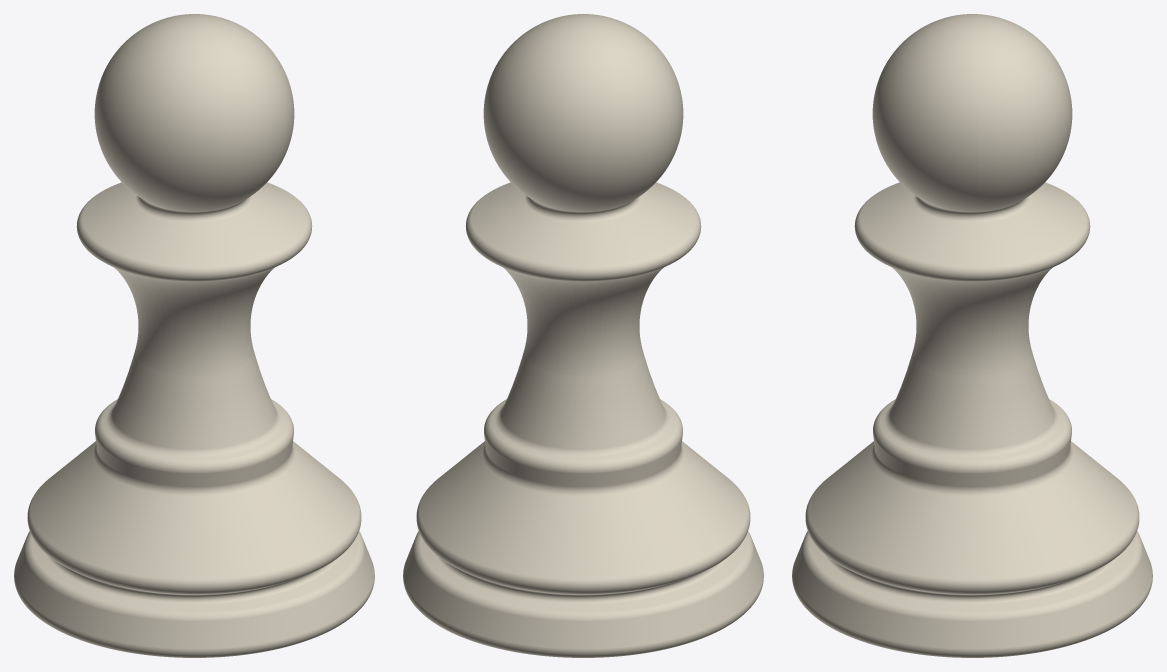
The model's file is pawn2.glb.
3 renders of one model, left to right at view 1: azimuth 30°, elevation 25°; view 2: azimuth 150°, elevation 25°; view 3: azimuth 270°, elevation 25°, orthographic.
Parts seen in each view (by area): view 1: Object_2, Object_3; view 2: Object_2, Object_3; view 3: Object_2, Object_3.
Part boxes in pixels (x1,y1,x2,y2): Object_2: [14, 14, 374, 657]; Object_3: [76, 184, 312, 473]; Object_2: [403, 14, 763, 657]; Object_3: [465, 182, 701, 473]; Object_2: [792, 14, 1152, 657]; Object_3: [854, 185, 1090, 495].
Bounding box in the file's own units: 28.69 × 50.27 × 28.68.
